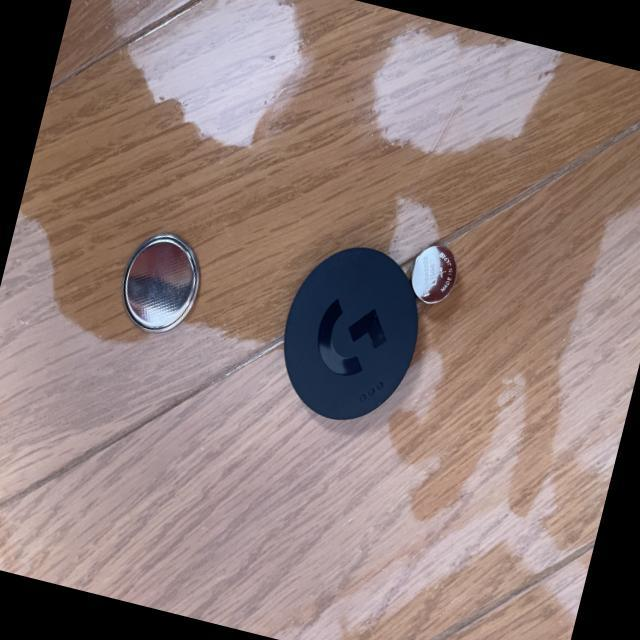COIN: (112, 223, 210, 340), (404, 239, 462, 307)
